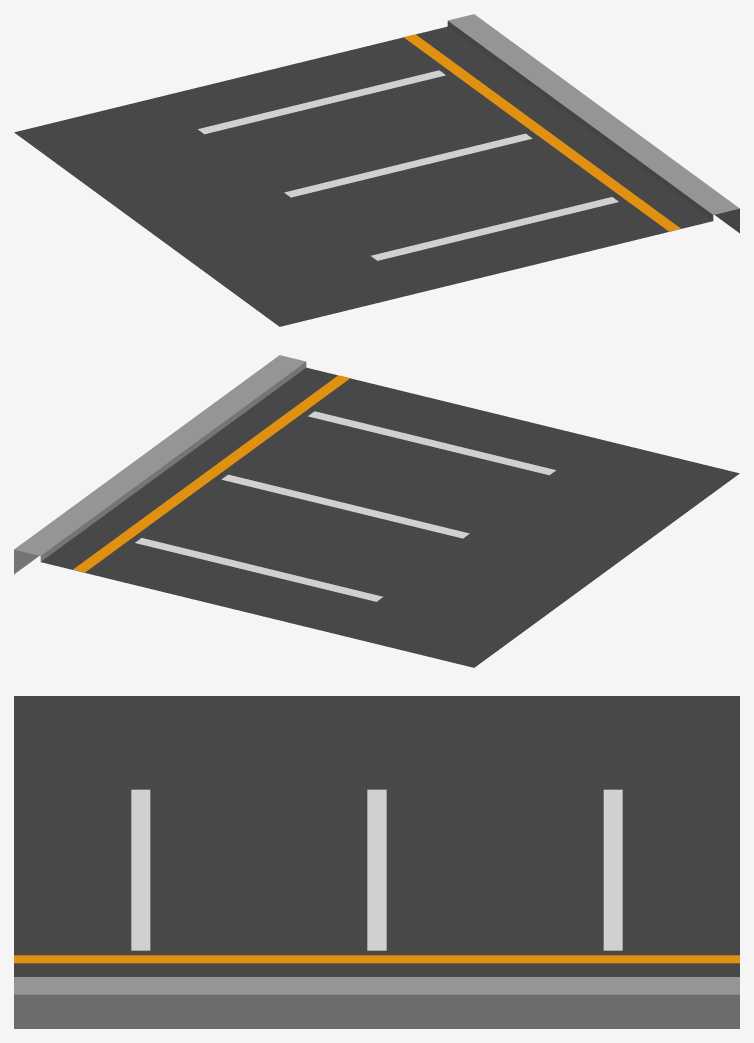
File: ParkingRoad_A_3.fbx
3 renders of one model, top to bottom at view 1: azimuth 30°, elevation 25°; view 2: azimuth 150°, elevation 25°; view 3: azimuth 270°, elevation 25°, orthographic. The views are drawn at different scales.
Visible parts, largest first — view 1: ParkingRoad_A_3; view 2: ParkingRoad_A_3; view 3: ParkingRoad_A_3.
Boxes of the visible parts, left/top/right/bottom form: ParkingRoad_A_3: left=14, top=14, right=739, bottom=326; ParkingRoad_A_3: left=14, top=355, right=739, bottom=667; ParkingRoad_A_3: left=14, top=696, right=739, bottom=1028.
Size of the model in its own units: 800 by 41.48 by 800.
